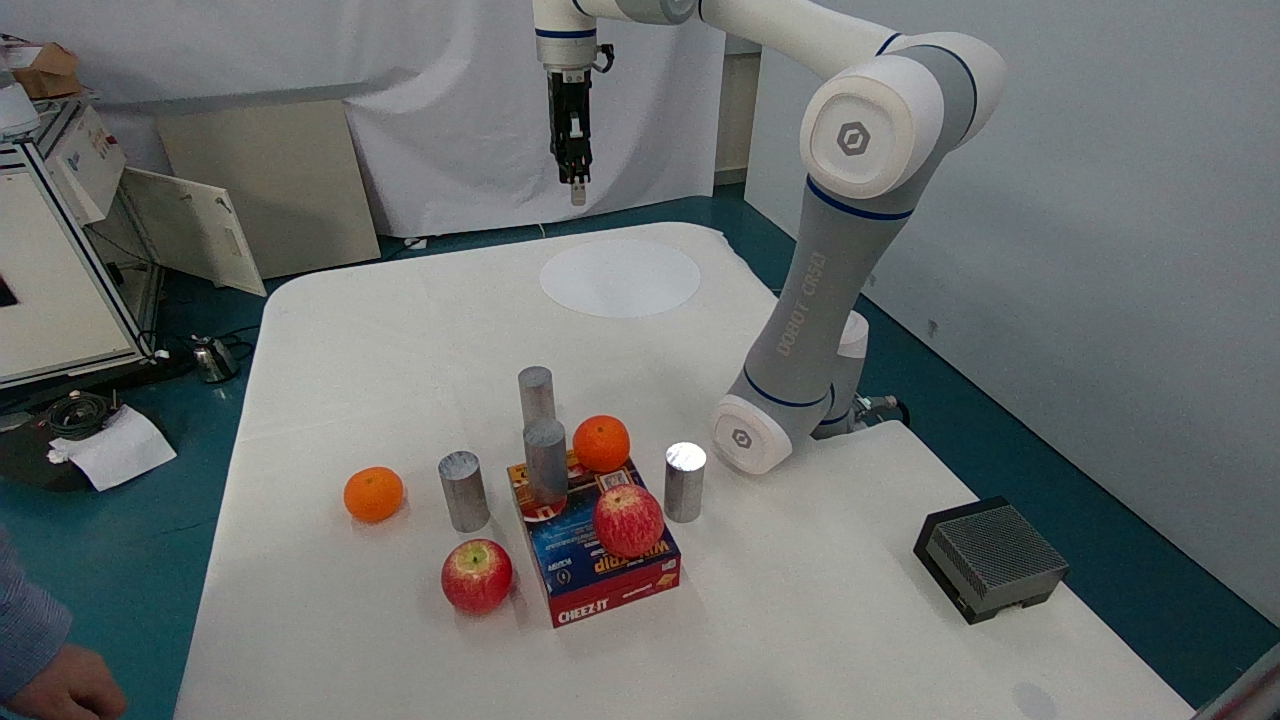apple: (588, 469, 677, 574), (435, 528, 520, 622)
metal rod: (510, 415, 580, 503), (429, 442, 495, 529), (656, 436, 713, 535), (510, 356, 569, 427)
orange: (564, 403, 638, 486), (336, 456, 405, 530)
